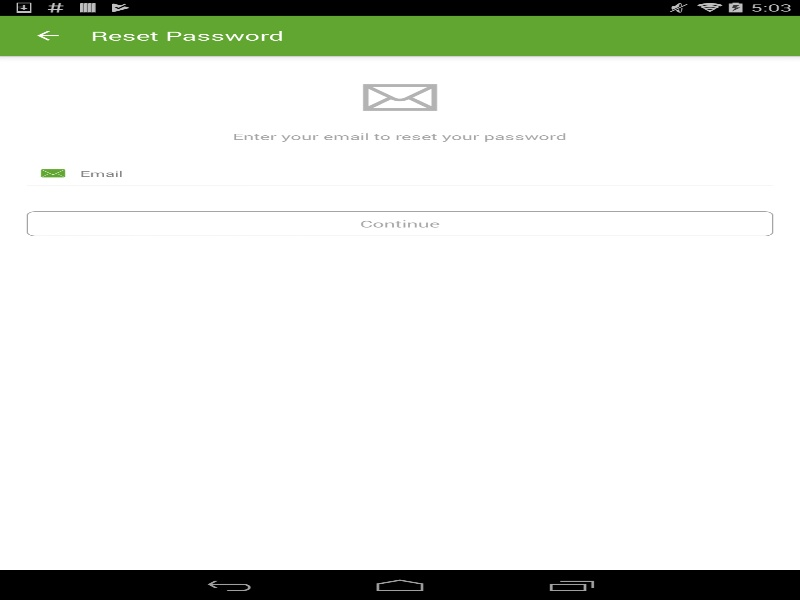Button: (26, 211, 773, 236), (10, 18, 85, 53)
Input: (80, 161, 773, 186)
